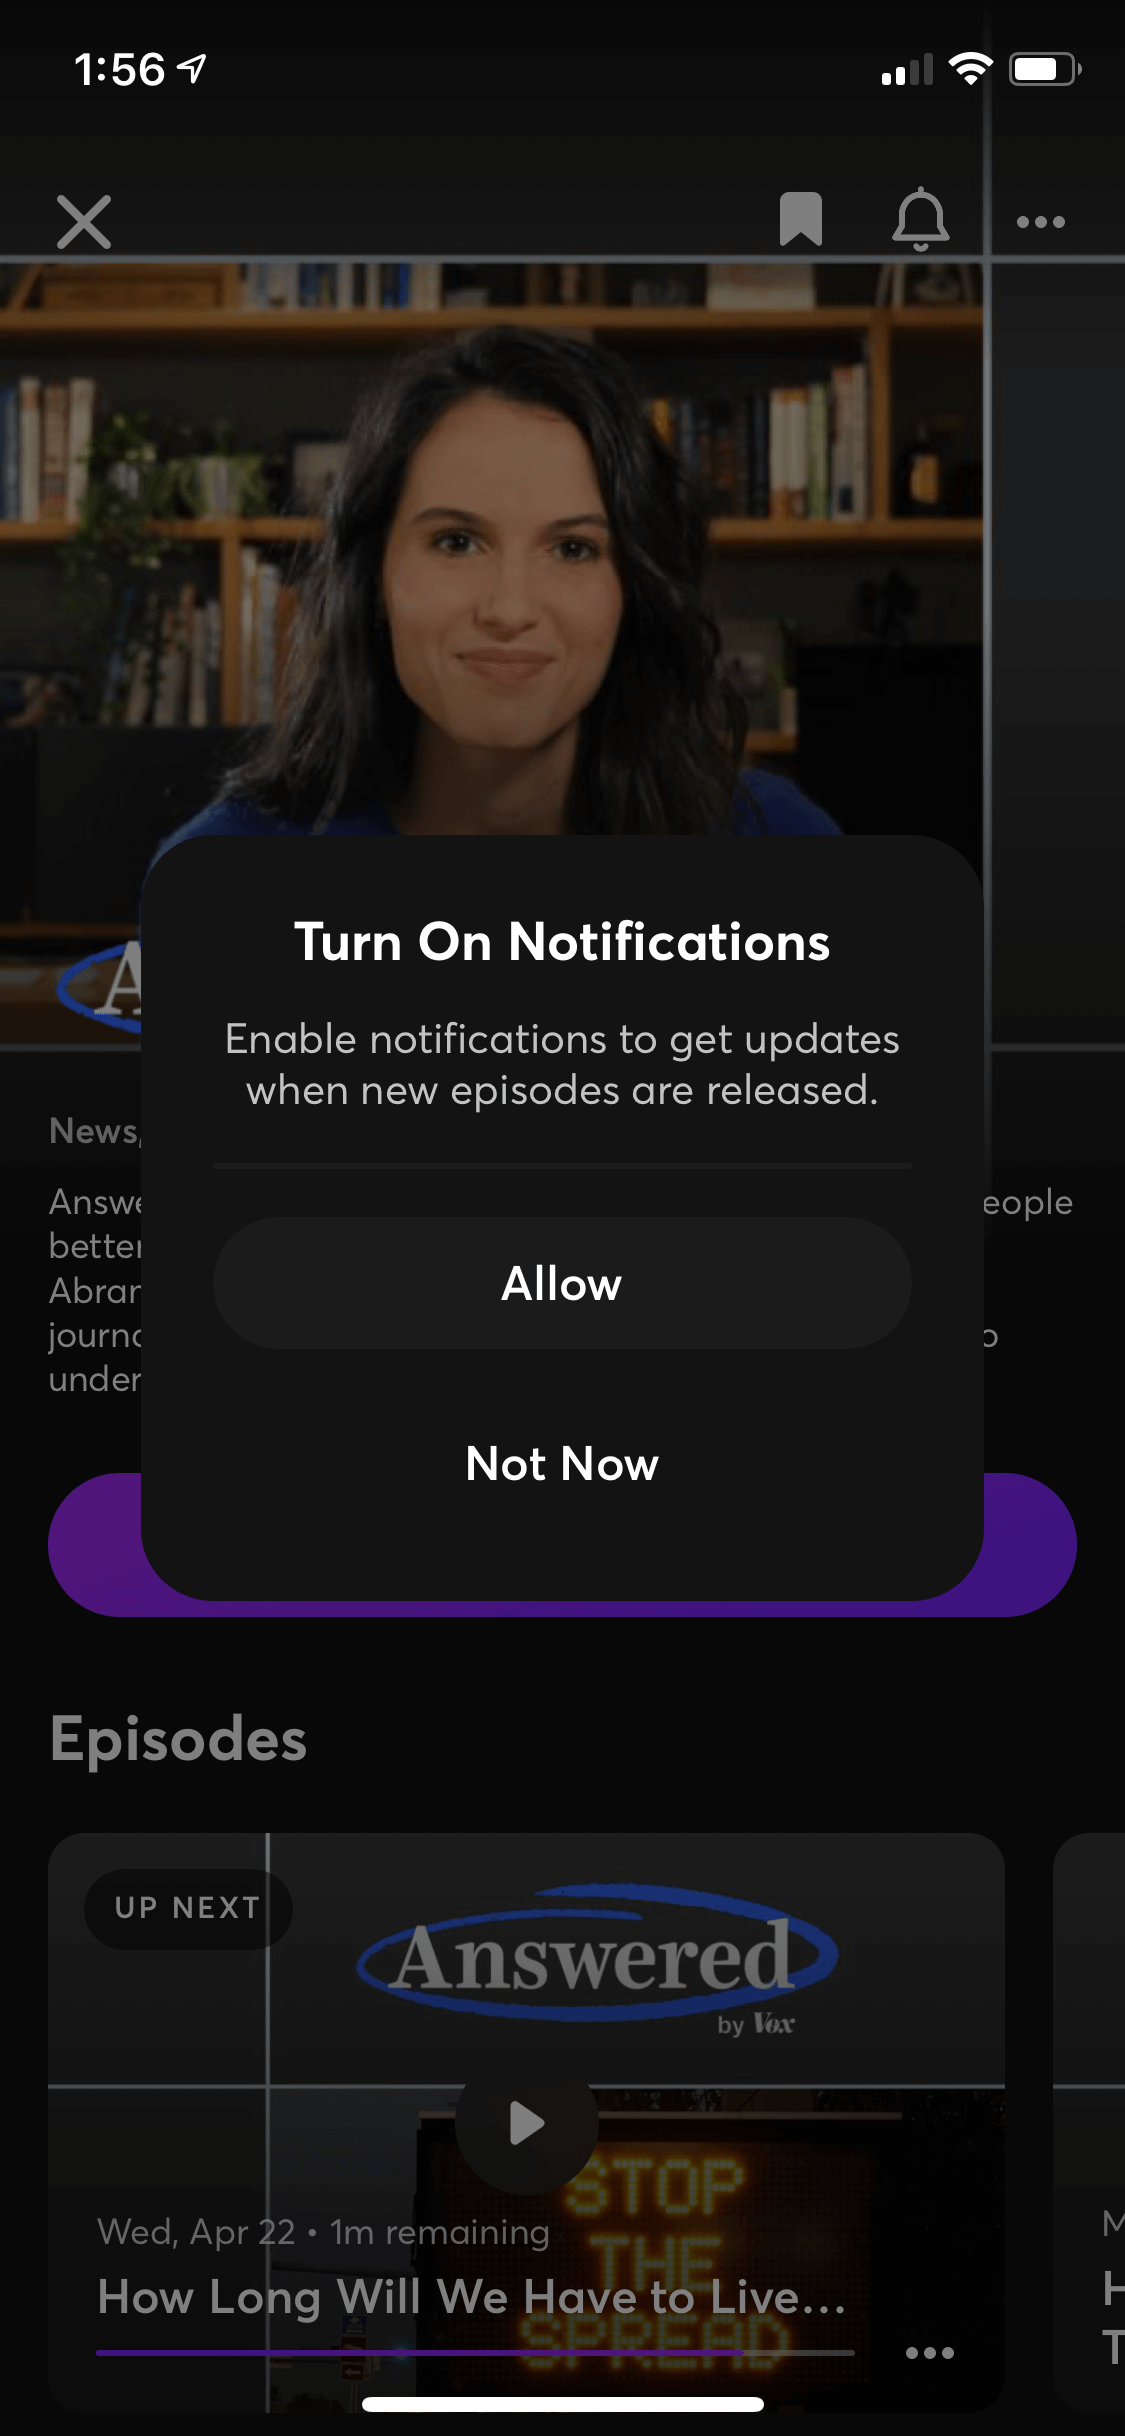Buttons: (200, 1199, 918, 1362), (196, 1400, 928, 1538), (79, 1849, 301, 1961), (22, 146, 163, 280), (741, 146, 862, 277), (872, 146, 965, 281), (994, 146, 1075, 278)
